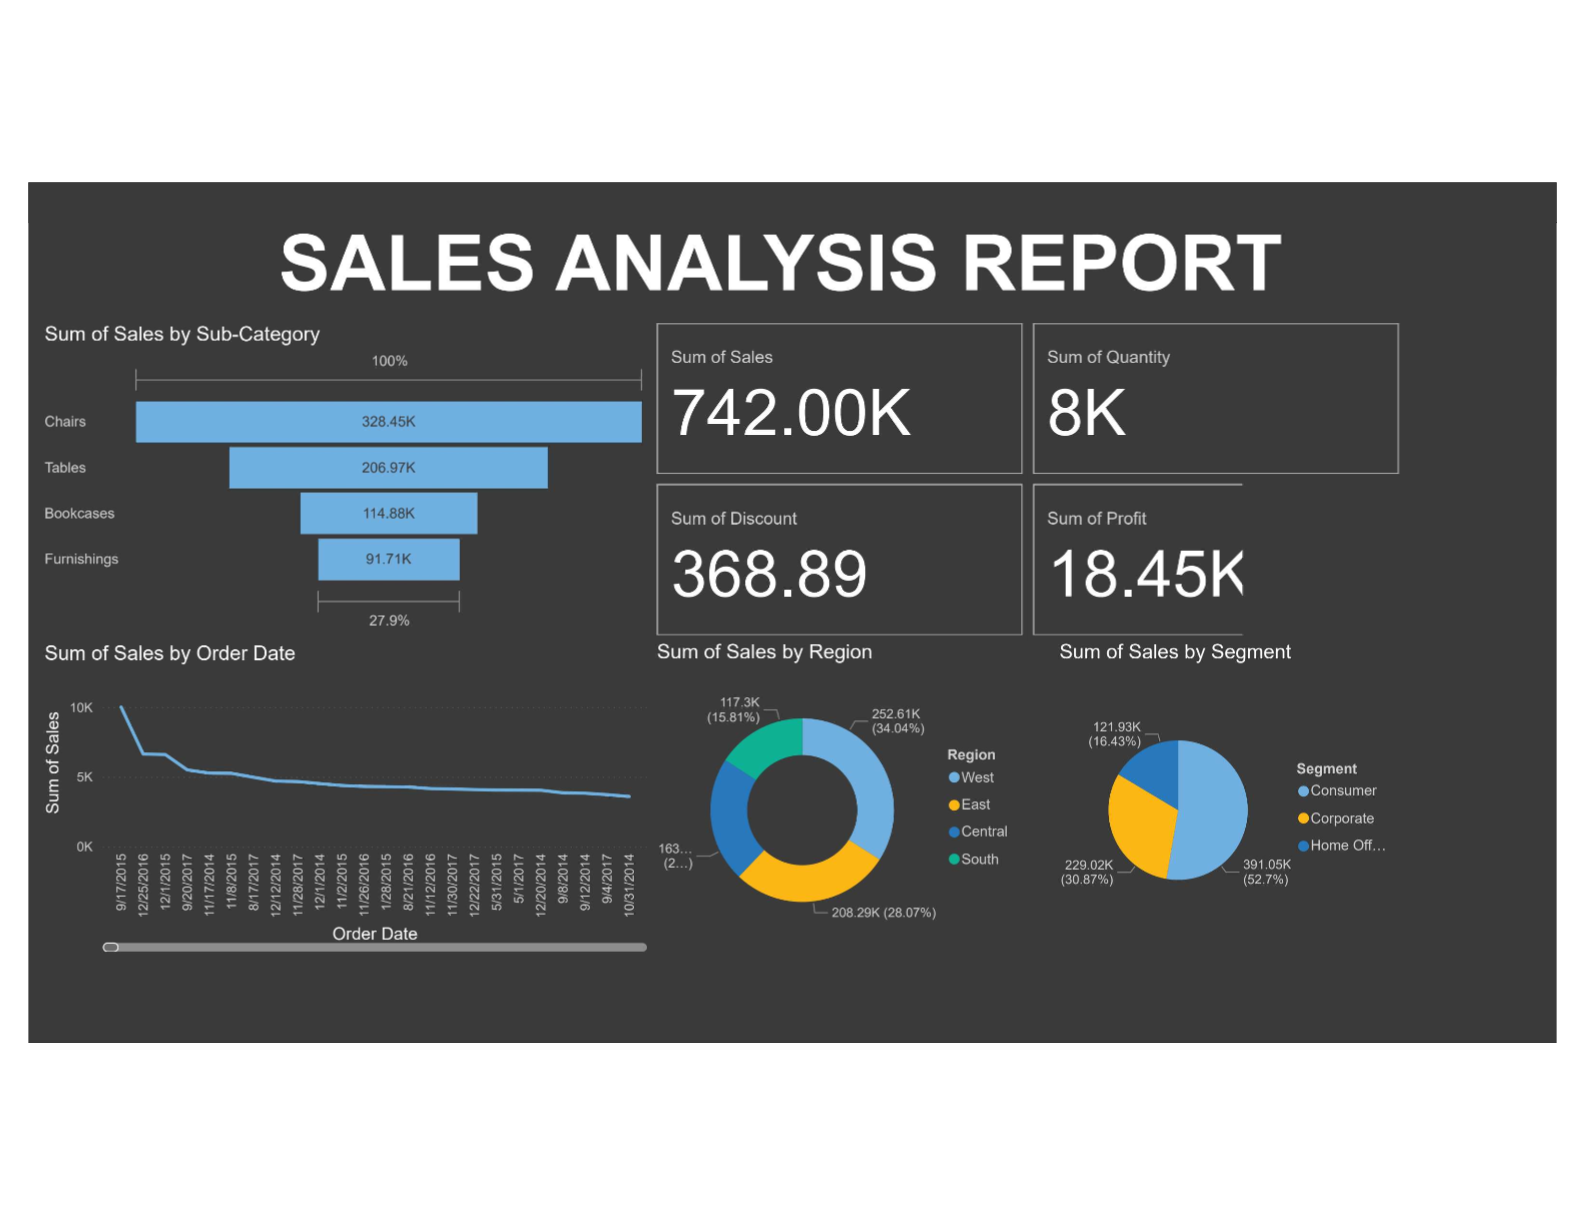

What the dashboard file says about the page in this screenshot:
{"tool":"powerbi","page":{"name":"Page 1","canvas":[1280,720],"ordinal":0},"visuals":[{"type":"donutChart","fields":{"Category":["stores_sales_forecasting.Region"],"Y":["Sum(stores_sales_forecasting.Sales)"]},"box":[580,425.7,345.7,294.3],"z":0},{"type":"funnel","fields":{"Category":["stores_sales_forecasting.Sub-Category"],"Y":["Sum(stores_sales_forecasting.Sales)"]},"box":[10,130,570,291.4],"z":1000},{"type":"pieChart","fields":{"Category":["stores_sales_forecasting.Segment"],"Y":["Sum(stores_sales_forecasting.Sales)"]},"box":[954.3,425.7,325.7,294.3],"z":2000},{"type":"lineChart","fields":{"Category":["stores_sales_forecasting.Order Date"],"Y":["Sum(stores_sales_forecasting.Sales)"]},"box":[10,427.1,570,292.9],"z":3000},{"type":"cardVisual","fields":{"Data":["Sum(stores_sales_forecasting.Sales)"]},"box":[580,125.7,350,150],"z":4000},{"type":"cardVisual","fields":{"Data":["Sum(stores_sales_forecasting.Quantity)"]},"box":[930,125.7,350,150],"z":5000},{"type":"cardVisual","fields":{"Data":["Sum(stores_sales_forecasting.Profit)"]},"box":[930,275.7,350,150],"z":6000},{"type":"cardVisual","fields":{"Data":["Sum(stores_sales_forecasting.Discount)"]},"box":[580,275.7,350,150],"z":7000},{"type":"textbox","box":[138.6,28.6,1141.4,101.4],"z":9000}]}

Visuals, with their boxes on the page's 1280x720 design canvas (x1, y1, x2, y2). These are canvas units, not pixel positions in the 1584x1224 screenshot, which may show the page scaled, cropped or inside an application window:
donutChart - stores_sales_forecasting.Region x Sum(stores_sales_forecasting.Sales): locate(580, 426, 926, 720)
funnel - stores_sales_forecasting.Sub-Category x Sum(stores_sales_forecasting.Sales): locate(10, 130, 580, 421)
pieChart - stores_sales_forecasting.Segment x Sum(stores_sales_forecasting.Sales): locate(954, 426, 1280, 720)
lineChart - stores_sales_forecasting.Order Date x Sum(stores_sales_forecasting.Sales): locate(10, 427, 580, 720)
cardVisual - Sum(stores_sales_forecasting.Sales): locate(580, 126, 930, 276)
cardVisual - Sum(stores_sales_forecasting.Quantity): locate(930, 126, 1280, 276)
cardVisual - Sum(stores_sales_forecasting.Profit): locate(930, 276, 1280, 426)
cardVisual - Sum(stores_sales_forecasting.Discount): locate(580, 276, 930, 426)
textbox: locate(139, 29, 1280, 130)
